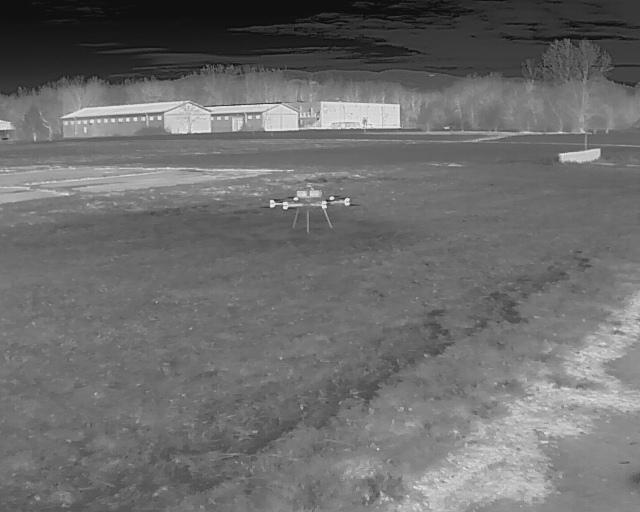drone: (255, 176, 366, 235)
